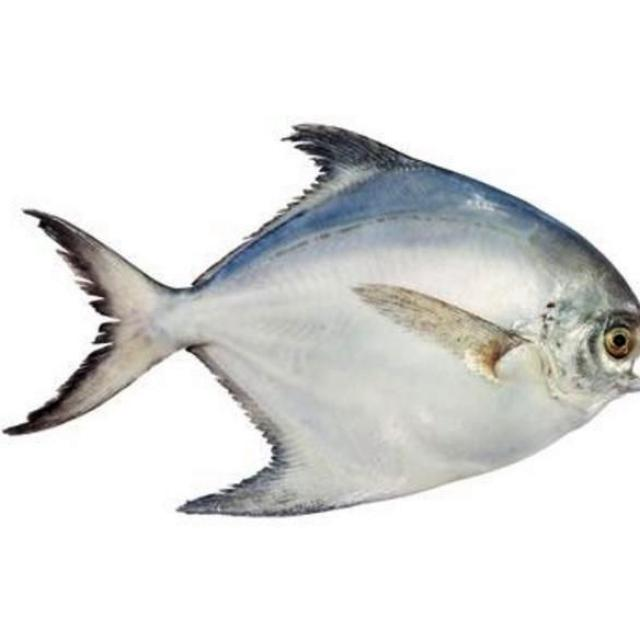pomfred: (7, 127, 640, 517)
